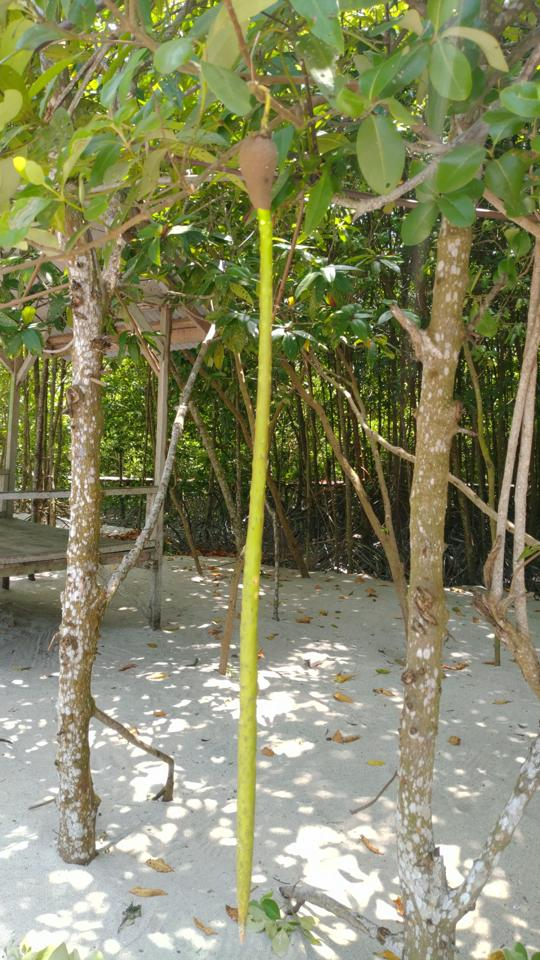mentah: (226, 112, 300, 933)
